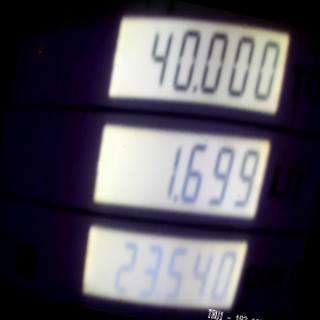screen: (50, 0, 303, 320)
